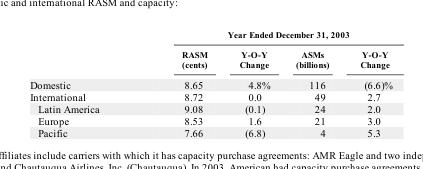table: (29, 29, 392, 137)
table column: (29, 29, 139, 137), (139, 29, 222, 137), (282, 29, 343, 137), (222, 29, 282, 137), (343, 29, 392, 137)
table column header: (29, 29, 392, 73)
table row: (29, 43, 392, 73), (29, 73, 392, 90), (29, 29, 392, 43), (29, 90, 392, 102), (29, 102, 392, 114), (29, 114, 392, 126), (29, 126, 392, 137)
table spanning cell: (139, 29, 392, 43)
